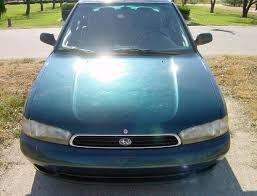Broken-glass: (59, 4, 182, 48)
